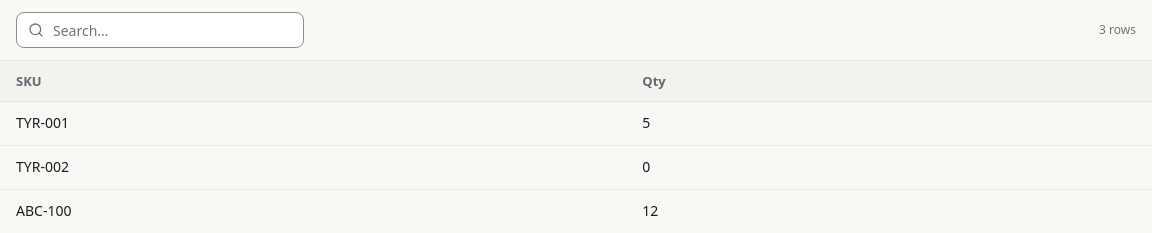
Scenario: DataTable › searches across columns and sorts
Later steps or results of the test are not shown.
expect the text "3 rows" is shown: met, box [1099, 22, 1136, 38]
Type "tyr" into the search field named "Search table".
click(160, 30); type("tyr")  # box [16, 12, 304, 48]
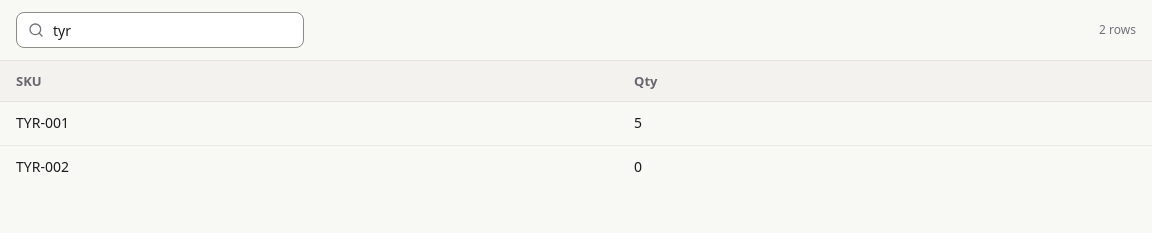
expect the text "2 rows" is shown: met, box [1099, 22, 1136, 38]
expect the text "ABC-100" is gone: met
